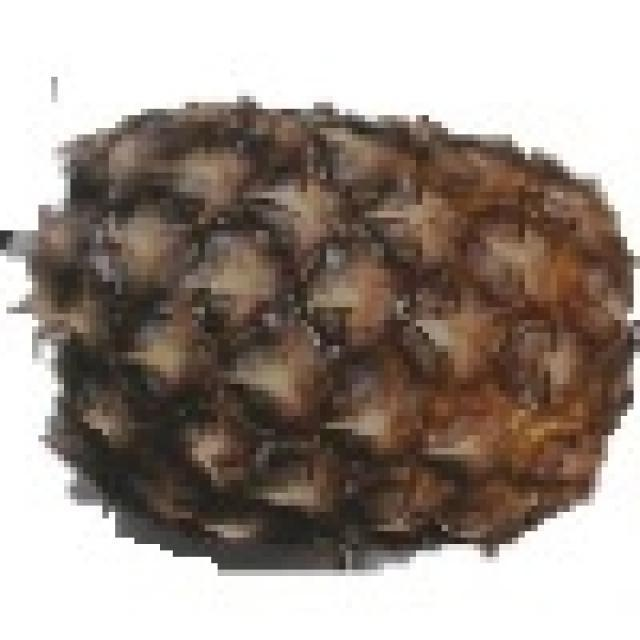pineapple: (45, 96, 640, 550)
